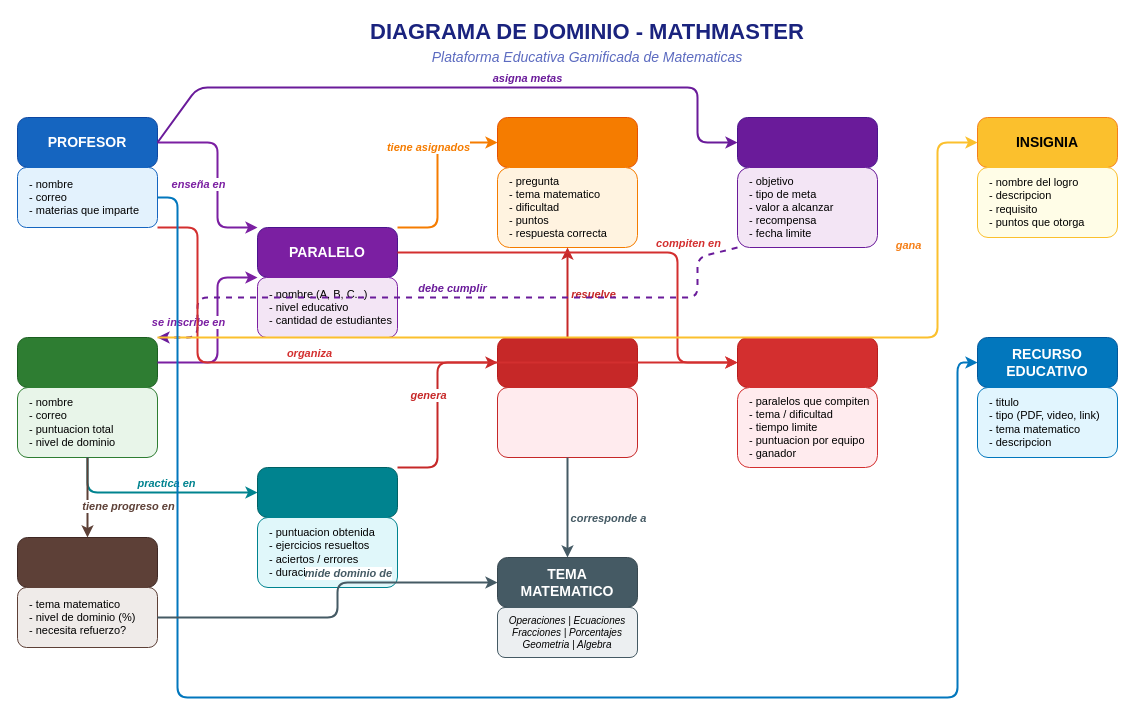
Image size: 1135x723. Some labels were removed from this diagram. Here are the shapes that lost their labels. From the top down, the box of each, then its label:
(496, 116, 638, 168): EJERCICIO
(736, 116, 878, 168): META
(16, 336, 158, 388): ESTUDIANTE
(496, 336, 638, 388): INTENTO
(736, 336, 878, 388): COMPETENCIA
(496, 386, 638, 458): - respuesta dada - es correcta? - tiempo empleado - puntos ganados
(256, 466, 398, 518): SESION DE PRACTICA
(16, 536, 158, 588): PROGRESO POR TEMA
